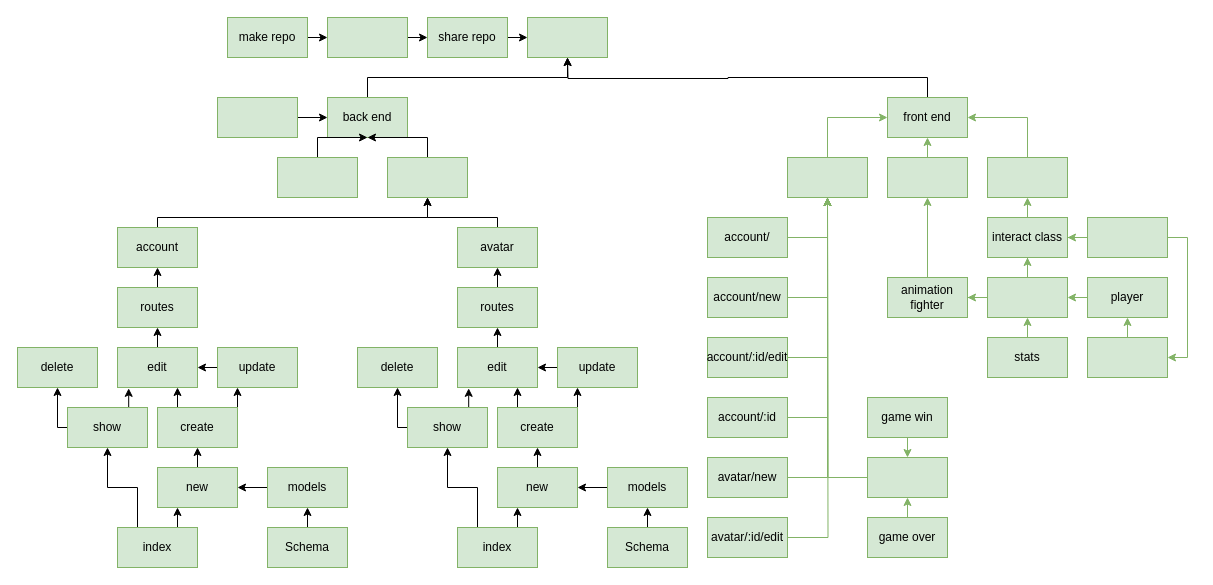
This 1213x585 diagram has some shape labels left out. The box of each missing label's shape, as (x1, y1, x2, y2) in pixels:
Connect to cloud: (216, 96, 298, 138)
controllers: (386, 156, 468, 198)
CSS: (886, 156, 968, 198)
fighter: (986, 276, 1068, 318)
game screen: (866, 456, 948, 498)
HTML/ejs: (786, 156, 868, 198)
JS: (986, 156, 1068, 198)
keyboard control: (1086, 336, 1168, 378)
meen template: (326, 16, 408, 58)
movement: (1086, 216, 1168, 258)
MVP: (526, 16, 608, 58)
server.js: (276, 156, 358, 198)
